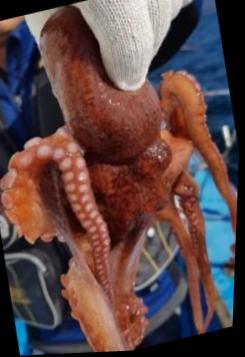Cephalopod: (0, 6, 239, 353)
